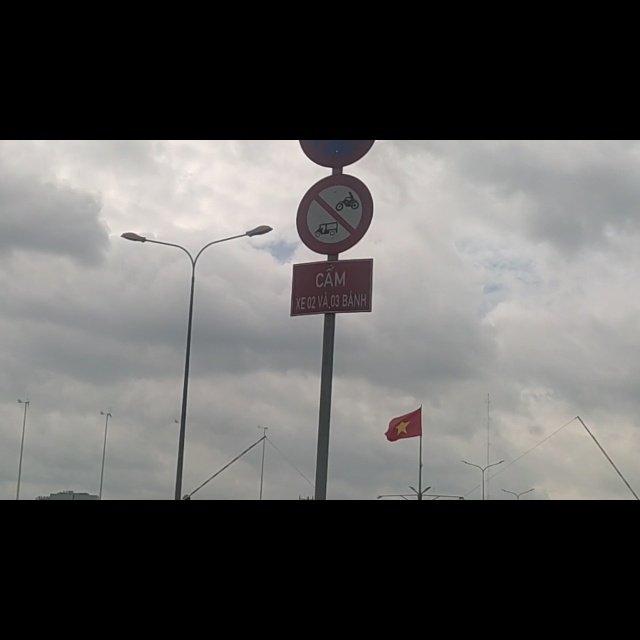bien_cam: (297, 62, 375, 203)
